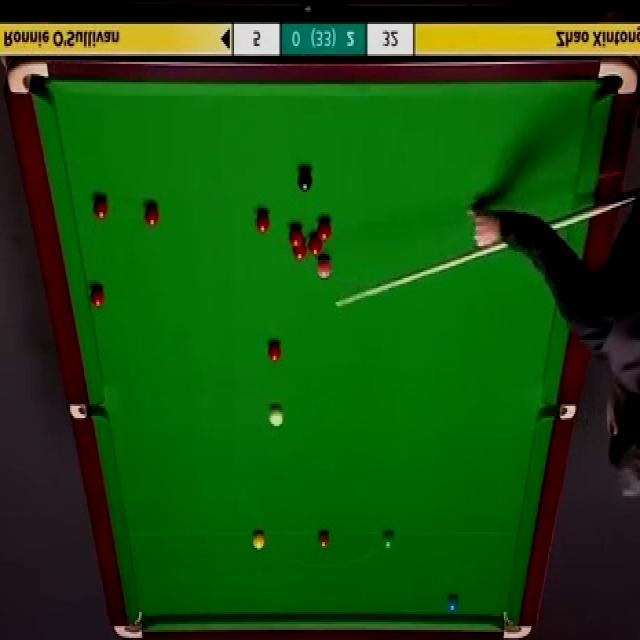black-ball: (298, 168, 312, 190)
blue-ball: (448, 596, 462, 613)
brown-ball: (318, 530, 331, 550)
green-ball: (381, 529, 395, 550)
pink-ball: (316, 256, 332, 281)
red-ball: (255, 208, 271, 235), (92, 196, 110, 220), (142, 204, 158, 229), (90, 286, 106, 310), (310, 238, 326, 260), (317, 220, 332, 243), (267, 340, 282, 362), (293, 239, 307, 262), (289, 226, 303, 247)
white-ball: (268, 406, 286, 428)
yellow-ball: (251, 530, 266, 551)
